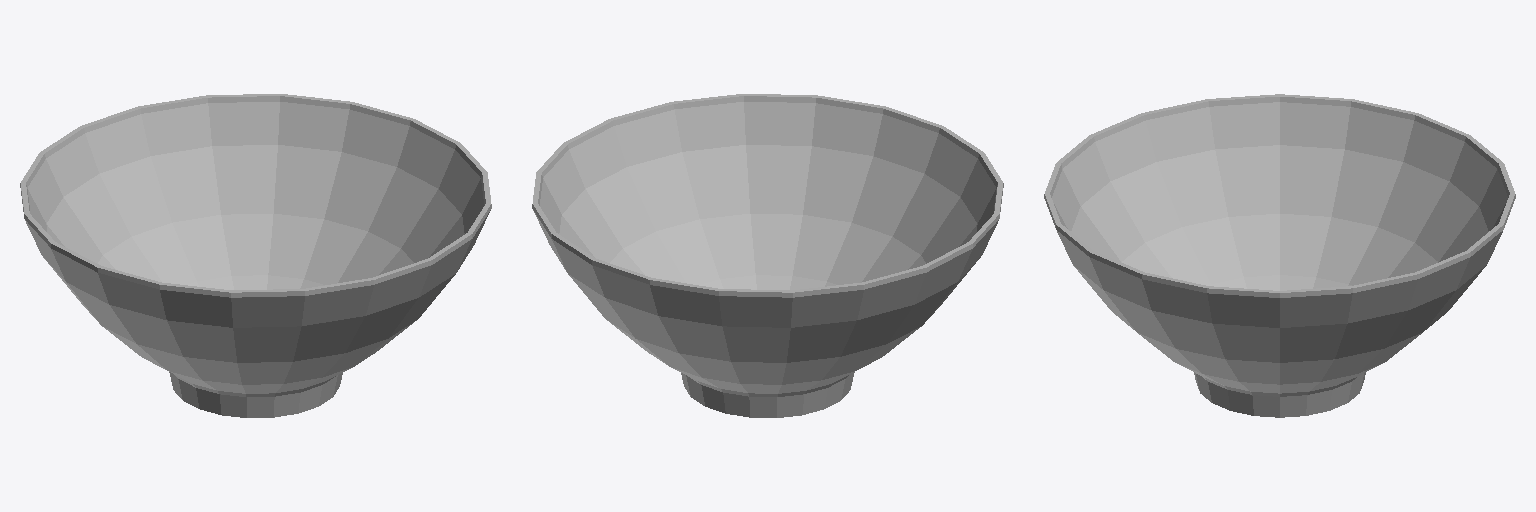
robot.urdf — plastic_bowl:
<?xml version="1.0" ?>

<robot name="plastic_bowl">
	<link name="/body">
		<visual>
			<origin rpy="0 0 0" xyz="0 0 0"/>
			<geometry>
				<mesh filename="package://pr_ordata/data/objects/plastic_bowl_visual.dae"/>
			</geometry>
		</visual>
		<collision>
			<geometry>
				<mesh filename="package://pr_ordata/data/objects/plastic_bowl_collision.stl"/>
			</geometry>
		</collision>
	</link>
</robot>

--- Render facts (derived) ---
Views: 3 orthographic renders of the robot side by side, from view 1: azimuth 30°, elevation 25°; view 2: azimuth 150°, elevation 25°; view 3: azimuth 270°, elevation 25°.
Model plastic_bowl with 1 links and 0 joints (none), rooted at /body, posed every joint at zero.
Links seen in each view (by area): view 1: /body; view 2: /body; view 3: /body.
Boxes of the visible links, left/top/right/bottom form: /body: left=20, top=94, right=491, bottom=417; /body: left=532, top=94, right=1003, bottom=417; /body: left=1044, top=94, right=1515, bottom=417.
Bounding box of the posed robot: 0.0017 × 0.0017 × 0.0008 m (x, y, z).
Meshes: 1 distinct files referenced, 1 mesh visuals loaded (1 Collada DAE).